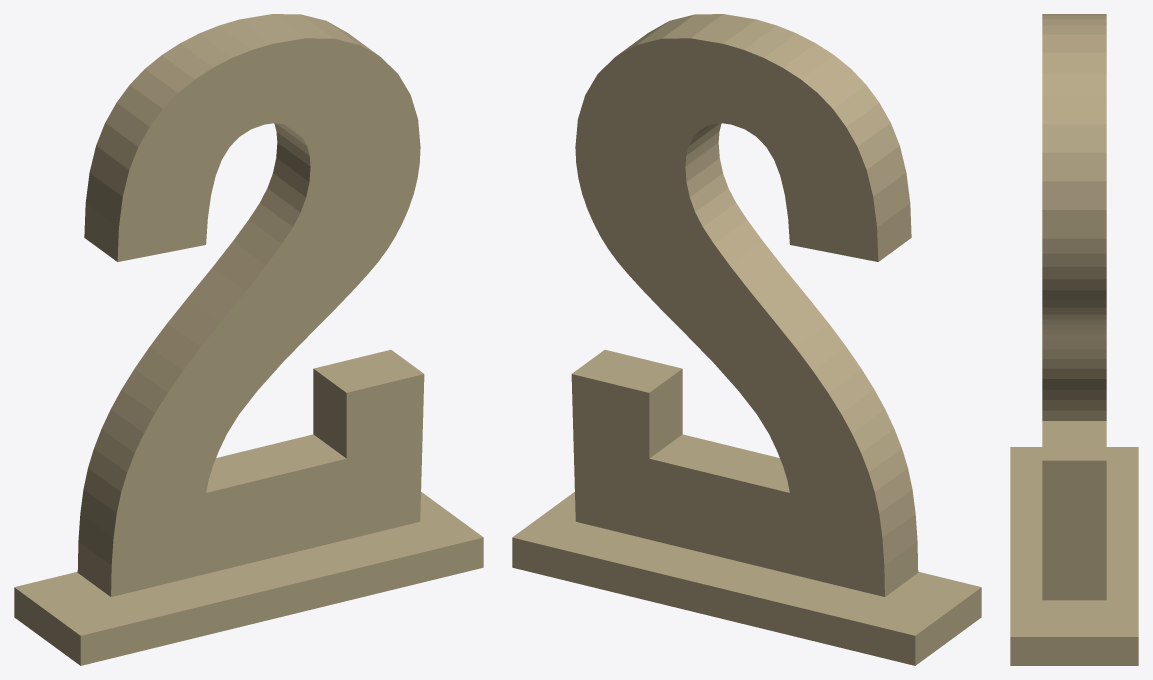
The model's file is num_2.glb.
The picture shows the model from 3 angles, left to right: view 1: azimuth 30°, elevation 25°; view 2: azimuth 150°, elevation 25°; view 3: azimuth 270°, elevation 25°; orthographic projection. The views are drawn at different scales.
Visible parts, largest first — view 1: num_2; view 2: num_2; view 3: num_2.
Part boxes in pixels (<box>): num_2: <box>14,14,483,665</box>; num_2: <box>512,14,981,665</box>; num_2: <box>1010,14,1138,665</box>.
Bounding box in the file's own units: 1.4 × 1.86 × 0.4.
